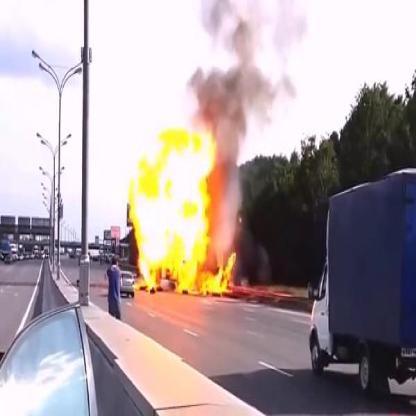fire: (126, 120, 239, 295)
